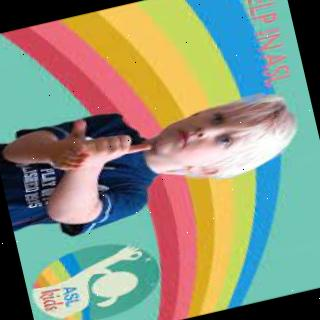Help: (42, 100, 160, 186)
